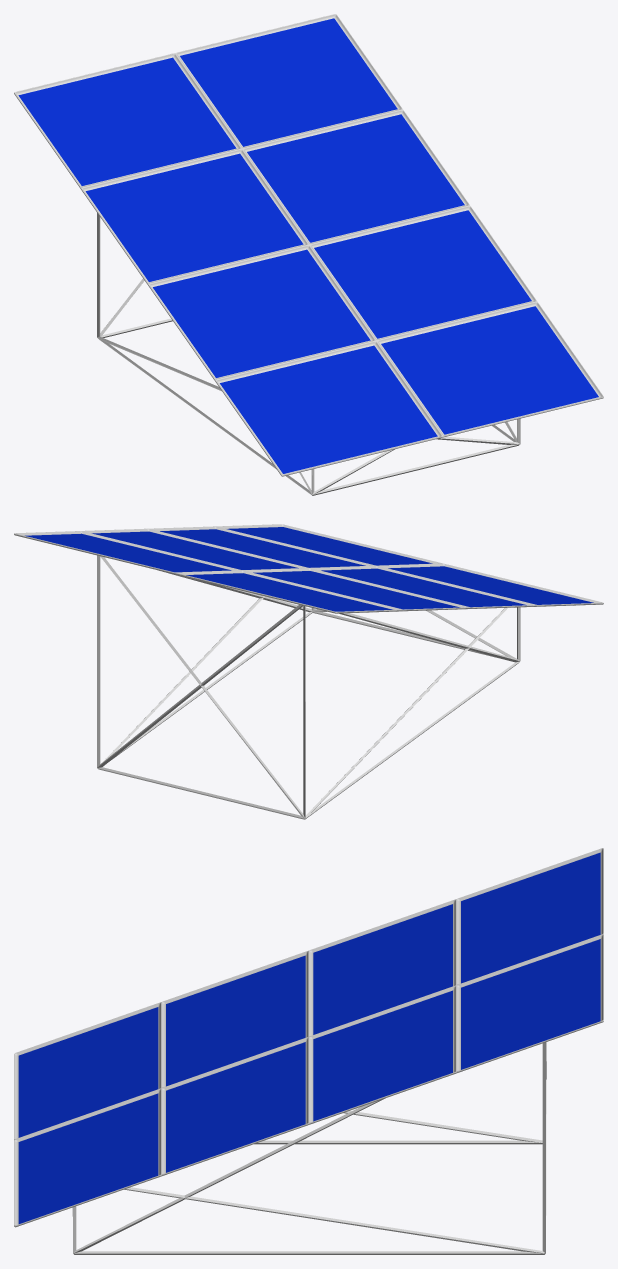
File: solar-panel2.fbx
The picture shows the model from 3 angles, top to bottom: view 1: azimuth 30°, elevation 25°; view 2: azimuth 150°, elevation 25°; view 3: azimuth 270°, elevation 25°; orthographic projection. The views are drawn at different scales.
Visible parts, largest first — view 1: Cube.001, Cube; view 2: Cube.001, Cube; view 3: Cube.001, Cube.
Part boxes in pixels (left/top/right/bottom): Cube.001: left=14, top=14, right=603, bottom=476; Cube: left=97, top=213, right=520, bottom=495; Cube.001: left=14, top=524, right=603, bottom=613; Cube: left=97, top=555, right=520, bottom=819; Cube.001: left=14, top=848, right=603, bottom=1227; Cube: left=72, top=1042, right=546, bottom=1254.
Size of the model in its own units: 313 by 224 by 451.
